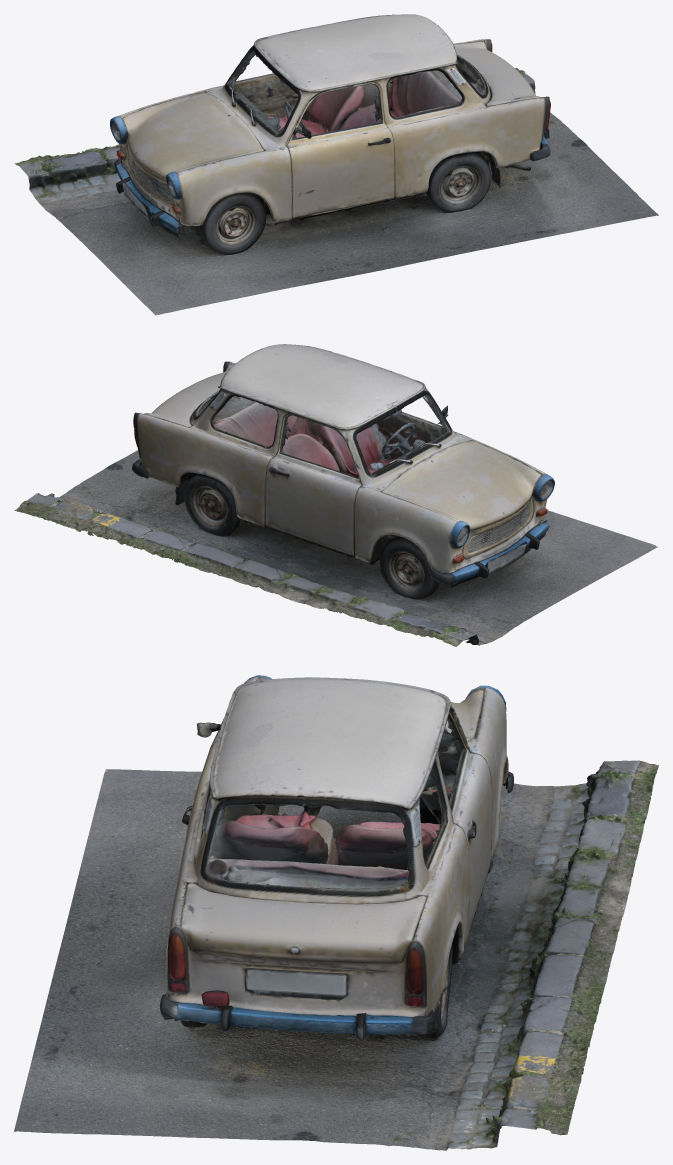
The model's file is trabant.gltf.
3 renders of one model, top to bottom at view 1: azimuth 30°, elevation 25°; view 2: azimuth 150°, elevation 25°; view 3: azimuth 270°, elevation 25°, orthographic. The views are drawn at different scales.
Parts seen in each view (by area): view 1: trabik, ground; view 2: trabik, ground; view 3: ground, trabik.
Boxes of the visible parts, left/top/right/bottom form: trabik: left=110, top=14, right=550, bottom=254; ground: left=14, top=68, right=658, bottom=315; trabik: left=132, top=344, right=554, bottom=599; ground: left=14, top=450, right=658, bottom=646; ground: left=14, top=760, right=658, bottom=1150; trabik: left=160, top=675, right=513, bottom=1040.
Size of the model in its own units: 4.98 by 1.51 by 3.44.
Materials: 2 (2 with a texture image).
